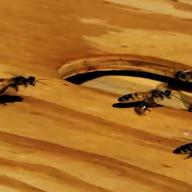Bee: (111, 85, 177, 112), (0, 64, 45, 101)
